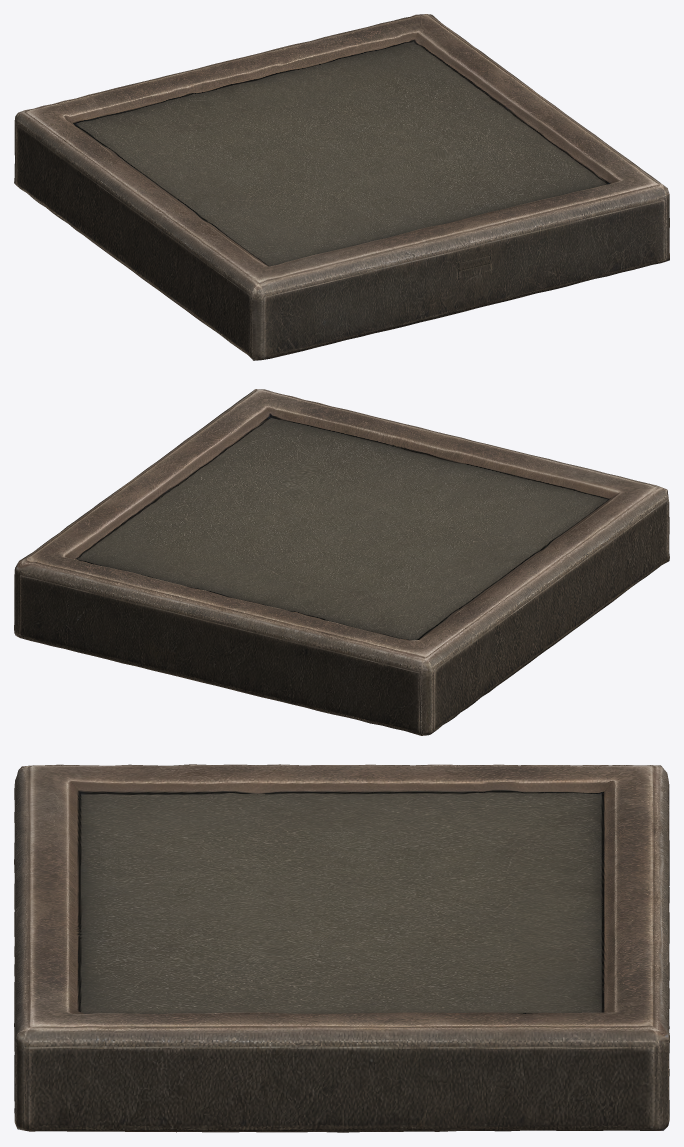
File: Prop_GardenSymbolBoard.fbx
3 renders of one model, top to bottom at view 1: azimuth 30°, elevation 25°; view 2: azimuth 150°, elevation 25°; view 3: azimuth 270°, elevation 25°, orthographic. The views are drawn at different scales.
Visible parts, largest first — view 1: texture_mapping; view 2: texture_mapping; view 3: texture_mapping.
Boxes of the visible parts, <box> form: texture_mapping: <box>14,14,669,360</box>; texture_mapping: <box>14,389,669,735</box>; texture_mapping: <box>14,764,669,1132</box>.
Size of the model in its own units: 0.9836 by 0.9969 by 0.1738.
1 material, 1 textured.
